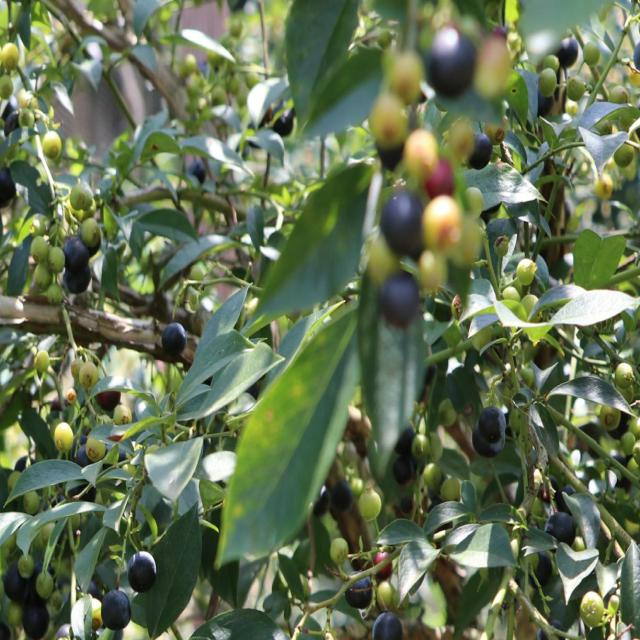blueberry: (421, 16, 479, 94), (378, 192, 423, 254), (380, 264, 418, 324), (96, 585, 134, 634), (543, 505, 578, 551), (126, 548, 162, 589), (465, 128, 497, 172), (19, 602, 55, 636), (162, 318, 193, 353), (471, 432, 503, 464), (372, 606, 403, 639), (62, 231, 89, 267), (62, 266, 94, 294), (350, 576, 375, 608), (482, 410, 504, 446)
blueberry-halfripe: (424, 153, 457, 198), (95, 387, 122, 409), (373, 549, 394, 577)
blueberry-unripe: (421, 195, 462, 252), (388, 52, 424, 103), (404, 127, 436, 184), (371, 94, 406, 146), (414, 245, 448, 292), (462, 182, 486, 224), (579, 590, 604, 628), (356, 485, 381, 522), (612, 136, 636, 171), (517, 292, 542, 324), (598, 397, 624, 427), (83, 432, 108, 463), (514, 256, 536, 291), (76, 360, 100, 391), (51, 422, 73, 454), (467, 322, 491, 351), (609, 83, 630, 115), (328, 536, 350, 566), (438, 398, 460, 426), (537, 65, 555, 99), (374, 580, 397, 606), (110, 402, 131, 430), (42, 127, 60, 159), (0, 42, 21, 69), (35, 566, 52, 599), (582, 39, 600, 70), (29, 235, 49, 261), (440, 478, 460, 504), (410, 432, 429, 458), (17, 107, 37, 131), (81, 216, 98, 244), (46, 245, 65, 270), (35, 260, 53, 286), (566, 72, 584, 98), (17, 551, 34, 578), (543, 47, 559, 75), (24, 488, 39, 514), (0, 72, 15, 98), (500, 285, 520, 304), (70, 185, 85, 209), (35, 348, 49, 372), (7, 470, 20, 495), (422, 462, 436, 485), (46, 282, 61, 303)
